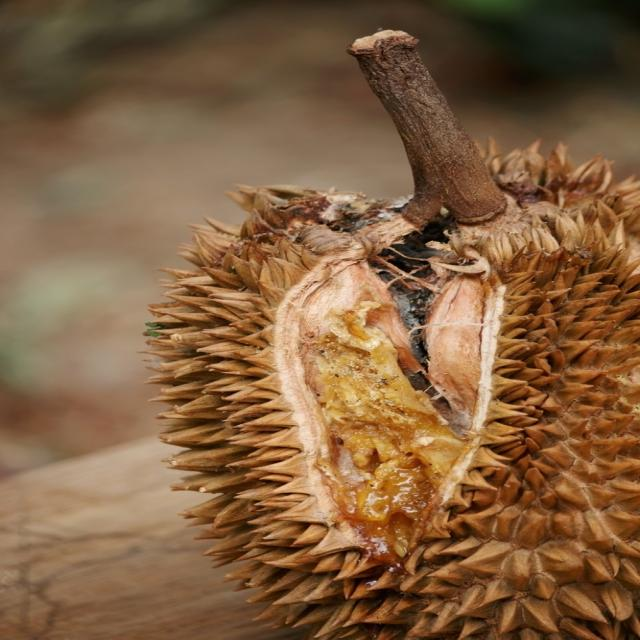defective: (135, 135, 640, 639)
